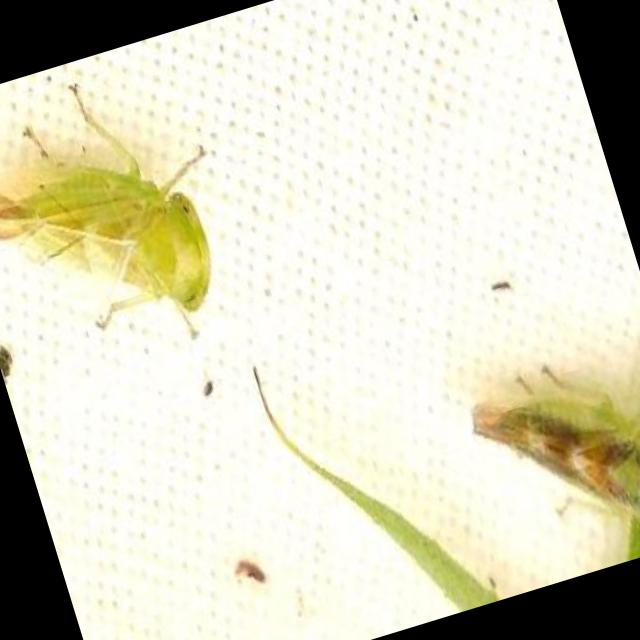green-leafhopper: (0, 67, 235, 385), (454, 329, 640, 571)
